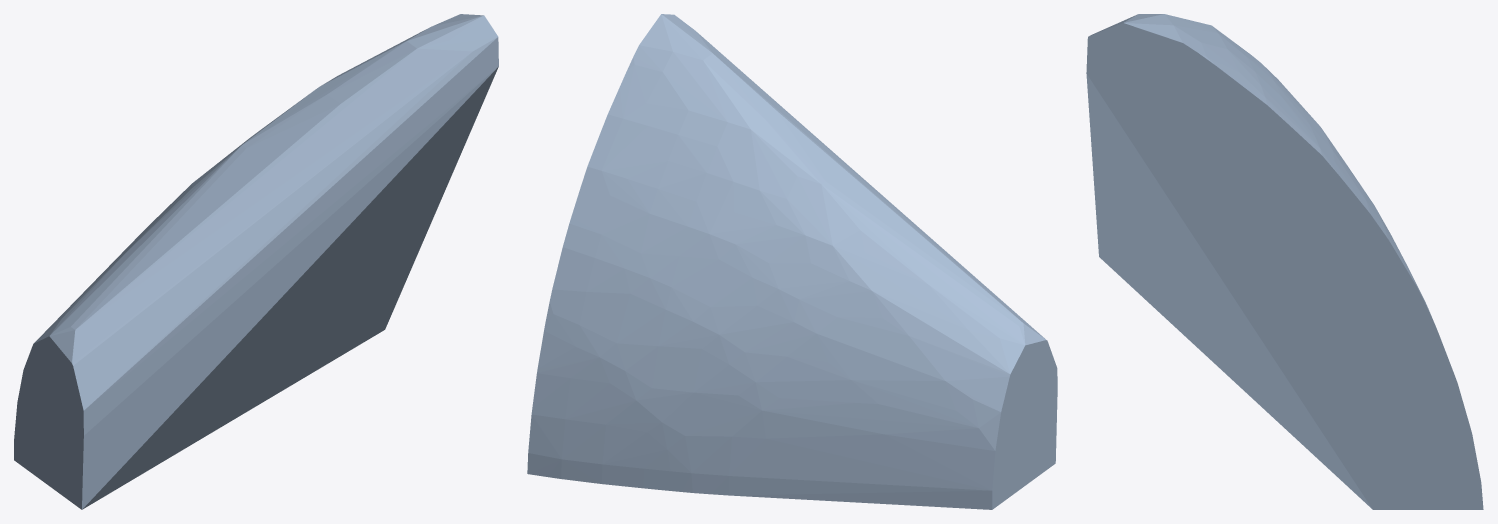
3 views of the same model, side by side, from view 1: azimuth 30°, elevation 25°; view 2: azimuth 150°, elevation 25°; view 3: azimuth 270°, elevation 25° (orthographic). The views are drawn at different scales.
Bounding box in the file's own units: 0.0377 × 0.0338 × 0.025.
